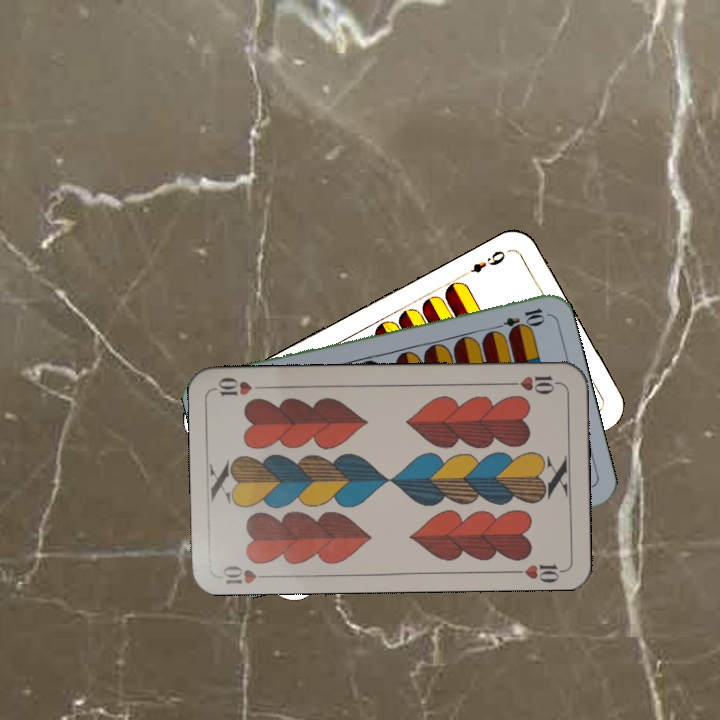E10: (489, 304, 547, 334)
E9: (458, 246, 509, 279)
H10: (503, 370, 562, 396), (219, 561, 275, 586)
